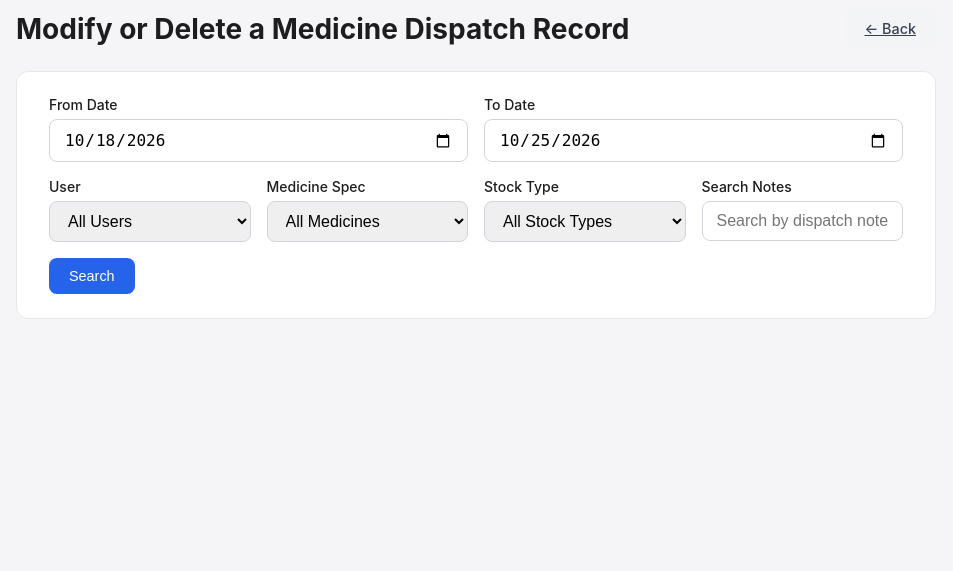
Scenario: AdminEditDispatch — filters › changing a filter after a search hides the table until Search is pressed again
Check: the dropdown labelled "User" is shown, box [49, 201, 250, 242]
Click the button "Search" at (92, 276), box [49, 258, 135, 294]
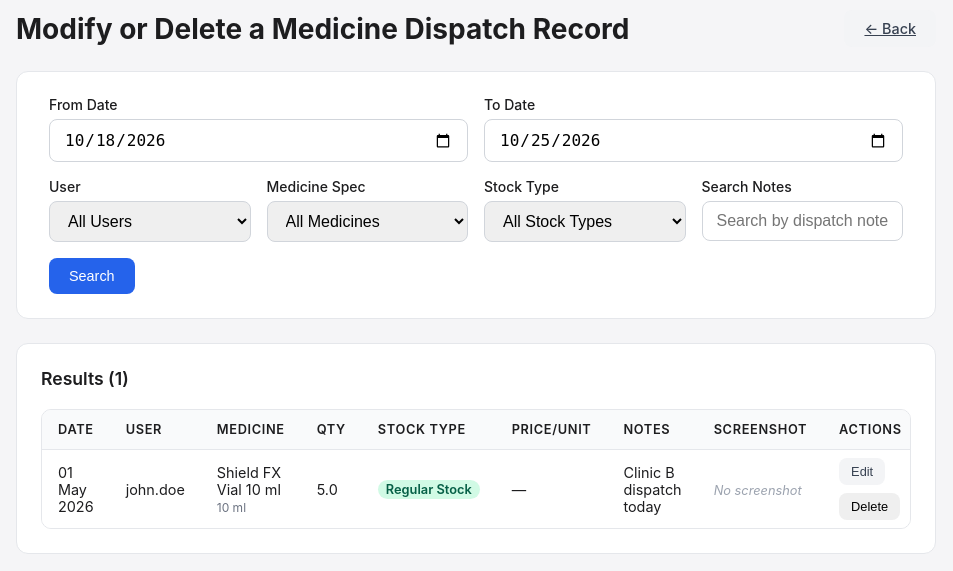
Check: the table is shown, box [42, 410, 911, 528]
Select "John Doe (john.doe)" in the dropdown labelled "User" at (150, 222), box [49, 201, 250, 242]
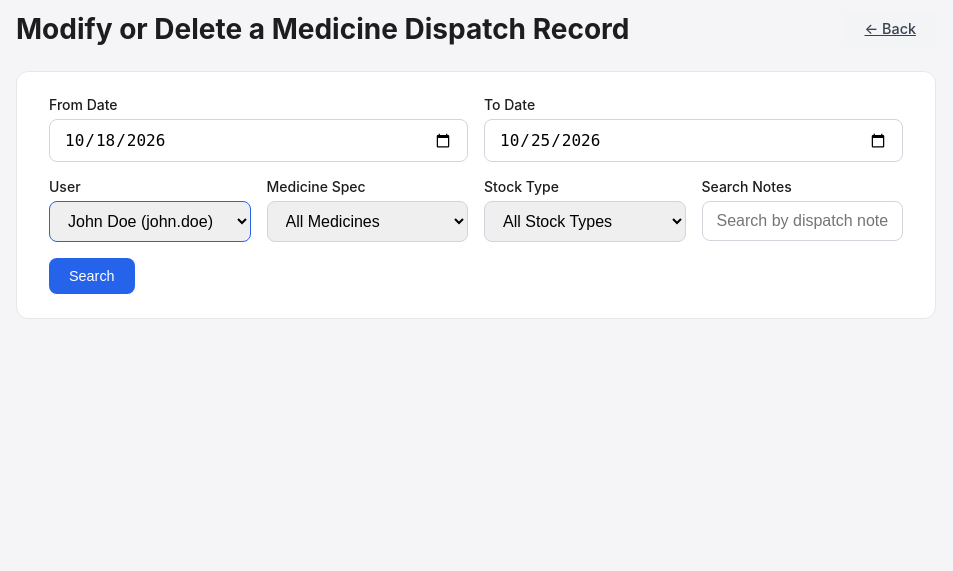
Check: the table is gone
